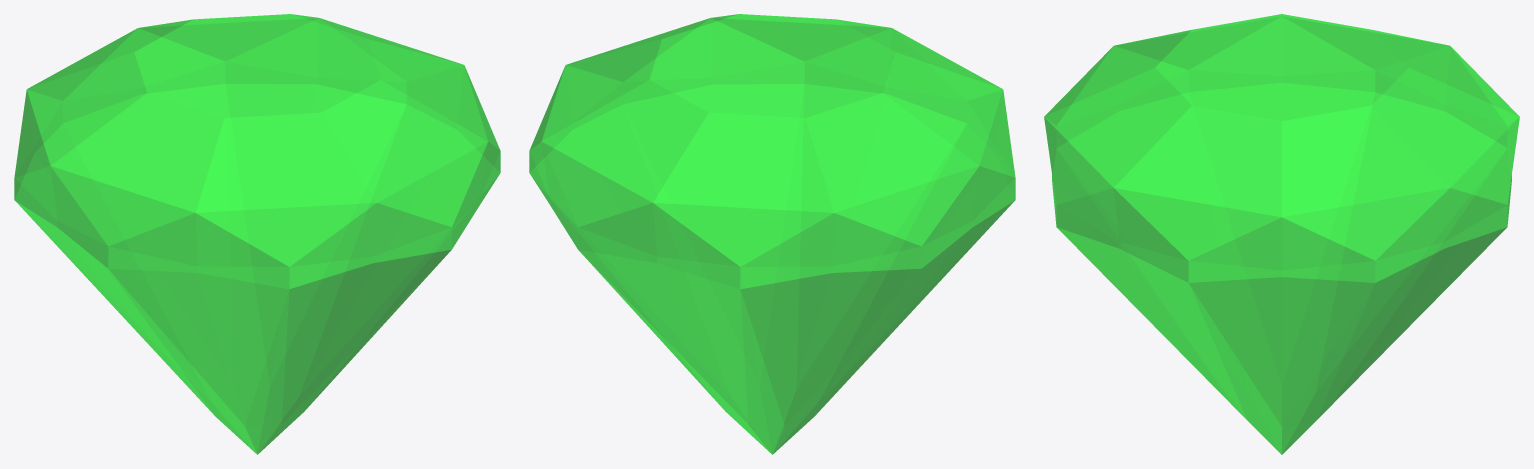
The model's file is green-gem.gltf.
The picture shows the model from 3 angles, left to right: view 1: azimuth 30°, elevation 25°; view 2: azimuth 150°, elevation 25°; view 3: azimuth 270°, elevation 25°; orthographic projection.
Parts seen in each view (by area): view 1: Diamond_2; view 2: Diamond_2; view 3: Diamond_2.
Part boxes in pixels (x1,y1,x2,y2): Diamond_2: [14, 14, 500, 454]; Diamond_2: [529, 14, 1015, 454]; Diamond_2: [1044, 14, 1519, 454].
Bounding box in the file's own units: 180 × 162 × 180.
